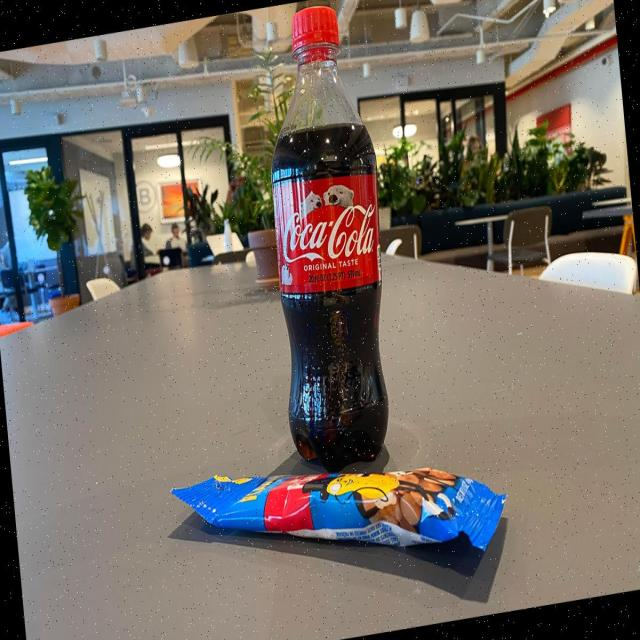coca-cola: (252, 0, 398, 478)
